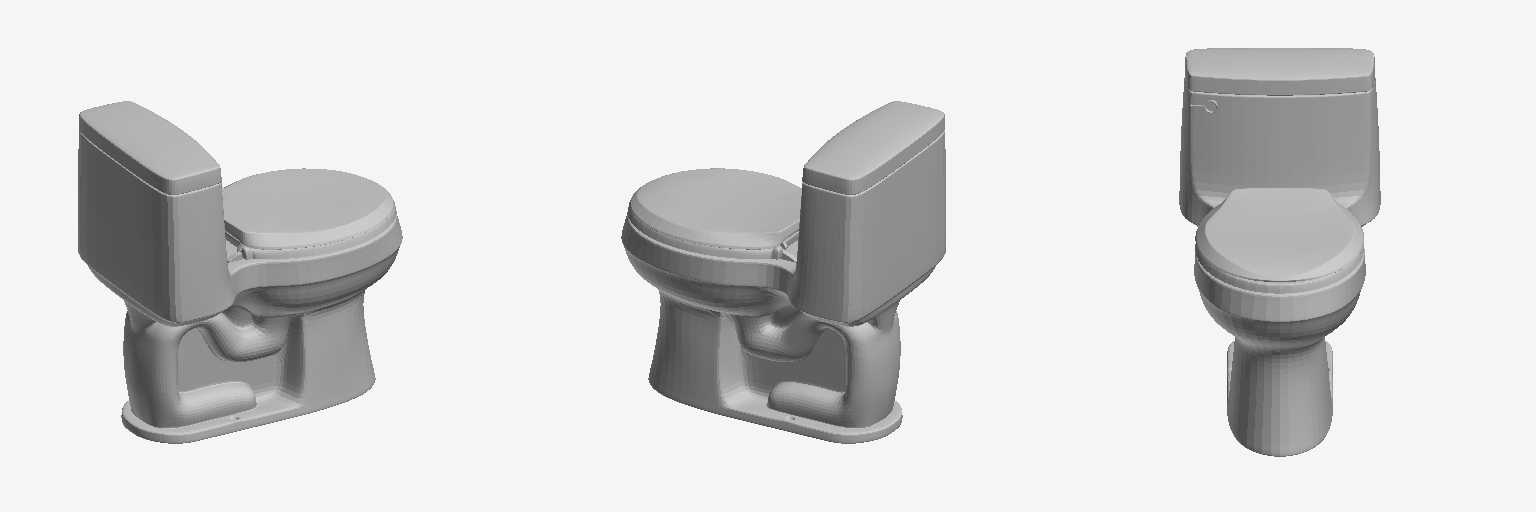
Rendered from toilet2.obj.
The picture shows the model from 3 angles: view 1: azimuth 30°, elevation 25°; view 2: azimuth 150°, elevation 25°; view 3: azimuth 270°, elevation 25°; orthographic projection.
Visible parts, largest first — view 1: 3dstylish05, 3dstylish02, 3dstylish00, 3dstylish01; view 2: 3dstylish05, 3dstylish02, 3dstylish00, 3dstylish01; view 3: 3dstylish05, 3dstylish02, 3dstylish00, 3dstylish01.
Boxes of the visible parts, x1,y1,x2,y2 form: 3dstylish05: [78, 130, 402, 443]; 3dstylish02: [222, 168, 393, 249]; 3dstylish00: [79, 101, 221, 194]; 3dstylish01: [225, 200, 396, 259]; 3dstylish05: [621, 130, 945, 443]; 3dstylish02: [630, 168, 801, 249]; 3dstylish00: [802, 101, 944, 194]; 3dstylish01: [627, 200, 798, 259]; 3dstylish05: [1179, 78, 1380, 456]; 3dstylish02: [1195, 188, 1363, 281]; 3dstylish00: [1185, 48, 1374, 95]; 3dstylish01: [1195, 244, 1363, 293].
Size of the model in its own units: 27.5 by 27.81 by 17.46.